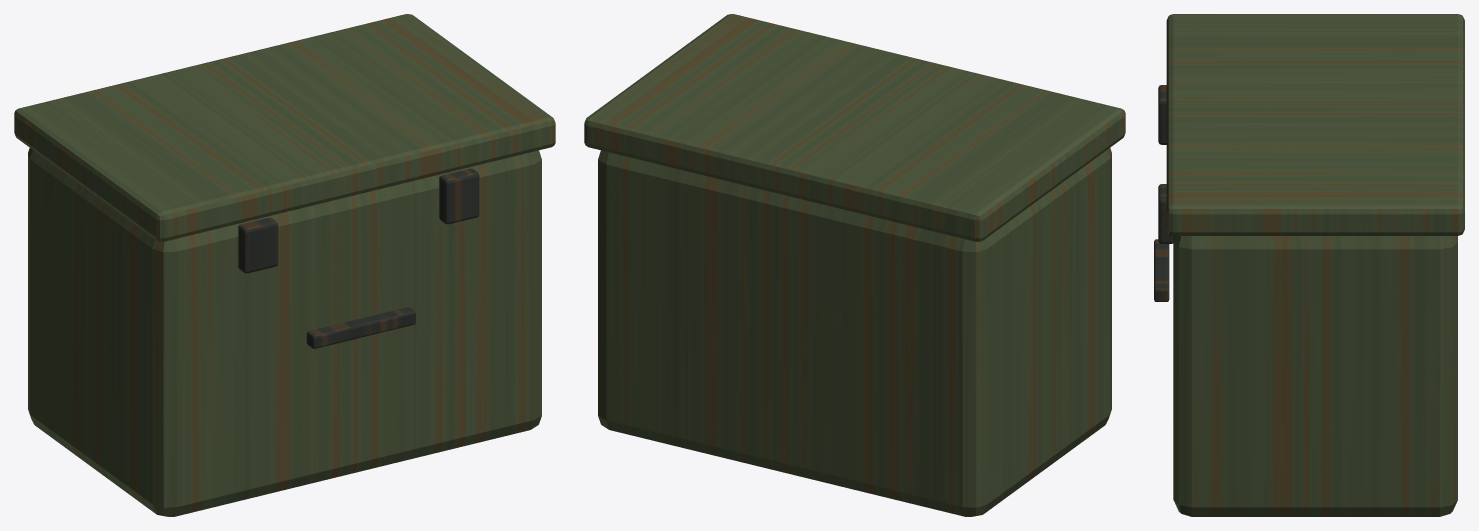
Rendered from utility-crate.obj.
3 views of the same model, side by side, from view 1: azimuth 30°, elevation 25°; view 2: azimuth 150°, elevation 25°; view 3: azimuth 270°, elevation 25° (orthographic).
Parts seen in each view (by area): view 1: utility-crate; view 2: utility-crate; view 3: utility-crate.
Part boxes in pixels (x1,y1,x2,y2): utility-crate: (14,14,555,516); utility-crate: (584,14,1125,516); utility-crate: (1154,14,1464,516).
Size of the model in its own units: 1.39 by 1.05 by 0.9275.
Materials: 1 (1 with a texture image).
